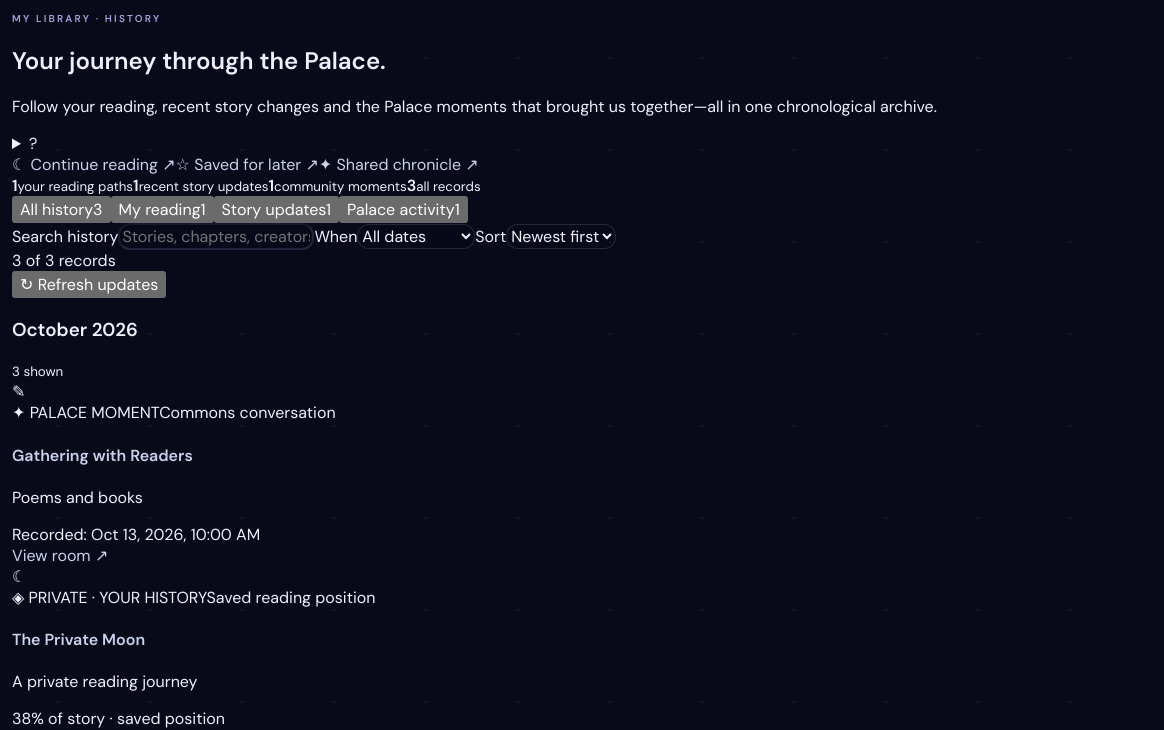
Test: My Library unified History screen › filters history to private reading without removing public data
Step 1. Click the button "My reading1" → (162, 209), box [111,196,214,223]
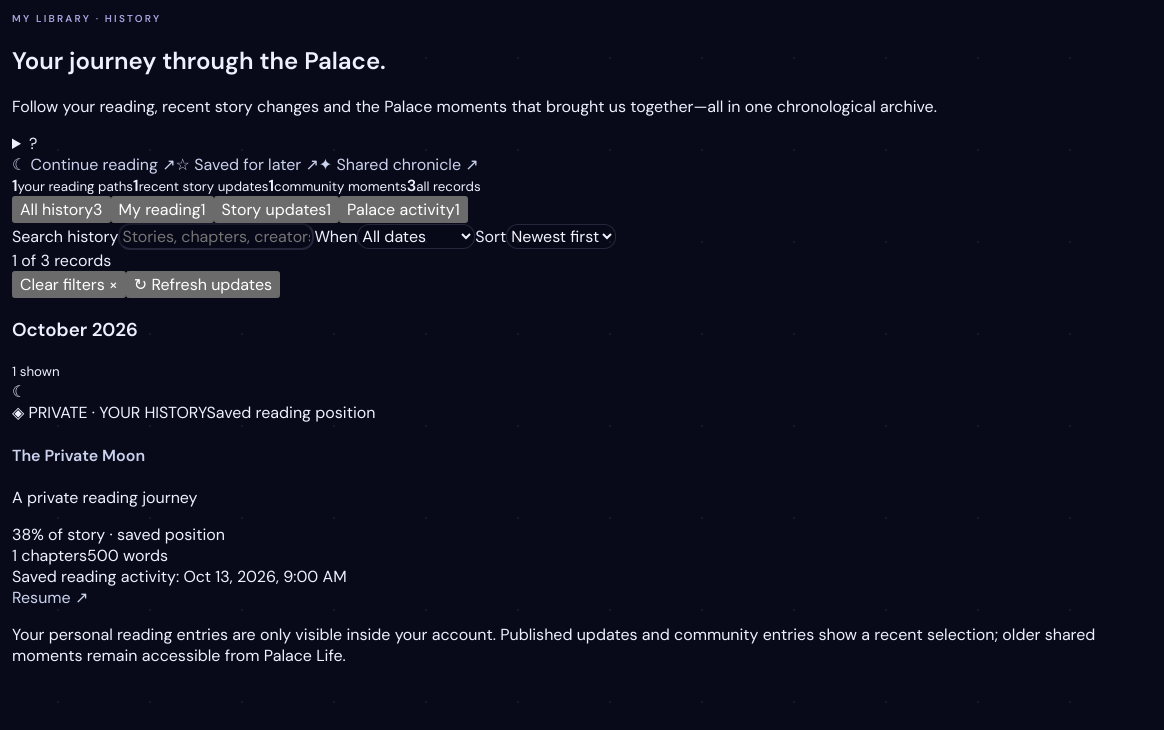
Expected: the link "The Private Moon" is shown, [12,444,145,466]
Step 2. Click the button "Story updates1" → (276, 209), box [214,196,339,223]
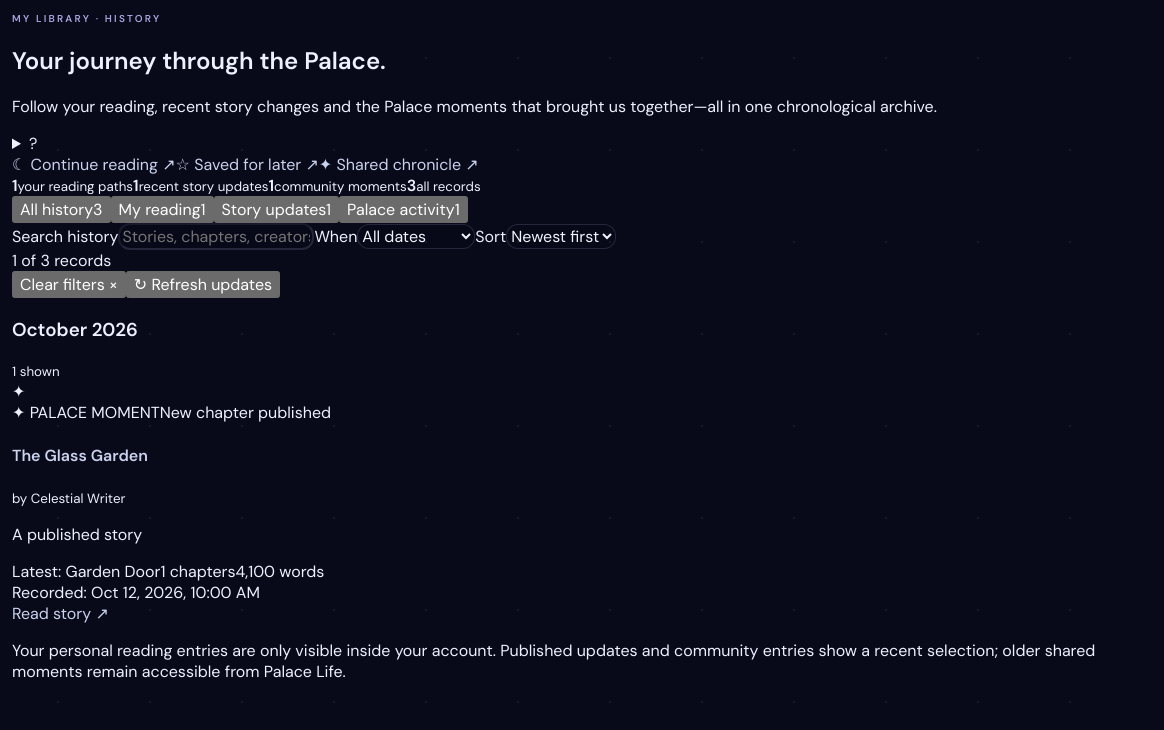
Result: the link "The Glass Garden" is shown at [12,444,148,466]
Result: the link "The Private Moon" is gone
Step 3. Type "not-found" into the field named "Search combined Library history" → (216, 236), box [118,223,314,250]
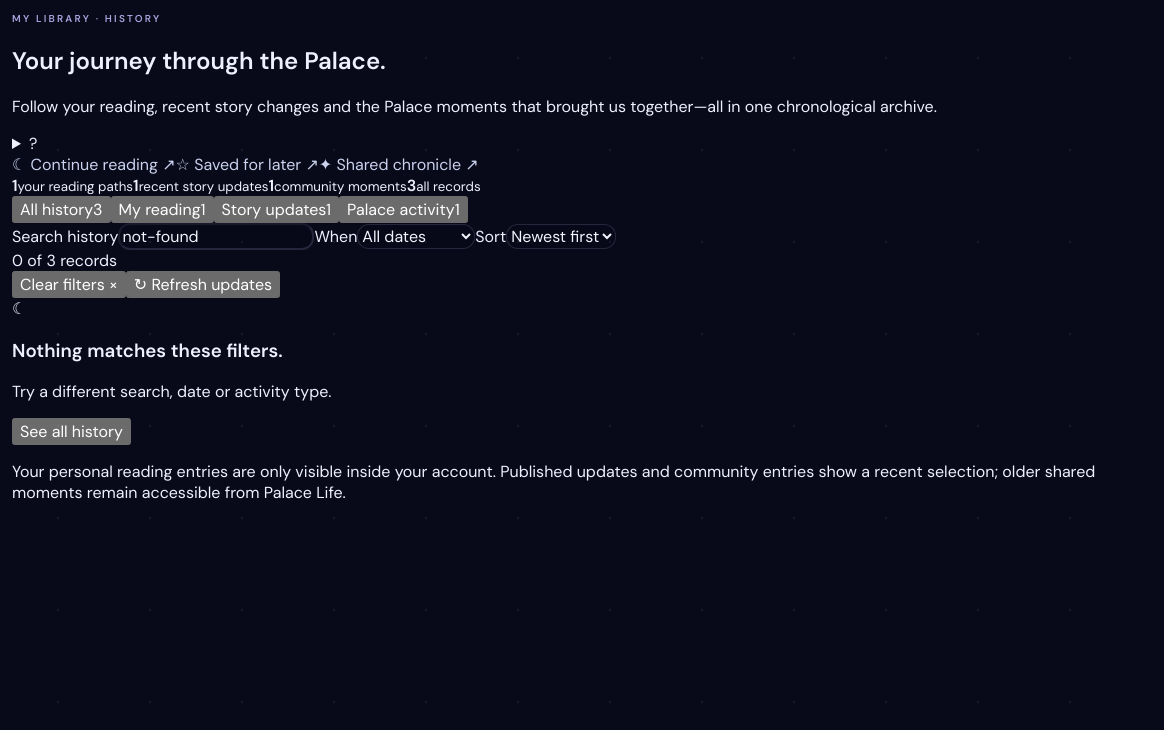
Result: the heading "Nothing matches these filters." is shown at [12,338,283,362]
